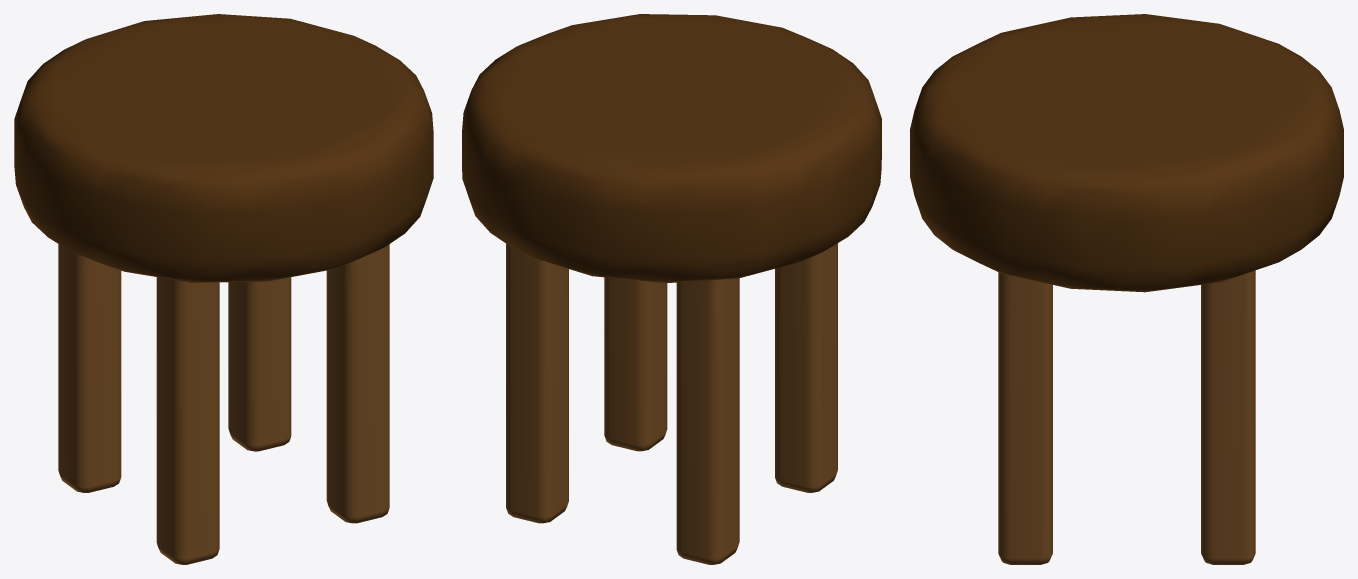
The model's file is stool_07_brown.fbx.
3 renders of one model, left to right at view 1: azimuth 30°, elevation 25°; view 2: azimuth 150°, elevation 25°; view 3: azimuth 270°, elevation 25°, orthographic. The views are drawn at different scales.
Parts seen in each view (by area): view 1: stool_07_brown; view 2: stool_07_brown; view 3: stool_07_brown.
Part boxes in pixels (left/top/right/bottom): stool_07_brown: left=14, top=14, right=433, bottom=564; stool_07_brown: left=462, top=14, right=881, bottom=564; stool_07_brown: left=910, top=14, right=1343, bottom=564.
Bounding box in the file's own units: 41.87 × 45 × 41.87.
1 material, 1 textured.
